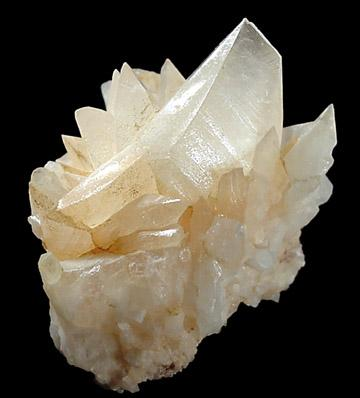calcite: (28, 19, 337, 392)
